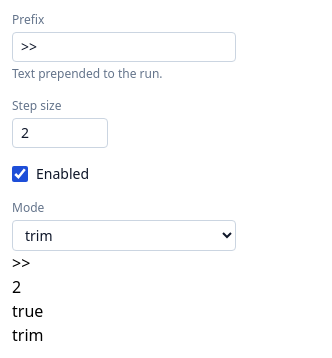
Test case: SchemaSettingsPanel › writes a numeric edit back as a number, live
Replace the text in the number field labelled "Step size" with "5" at (60, 133), box [12,118,108,148]
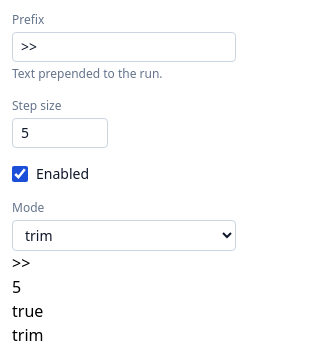
Result: the text with test id "consume-stepSize" reads "5" at [12,276,21,298]
